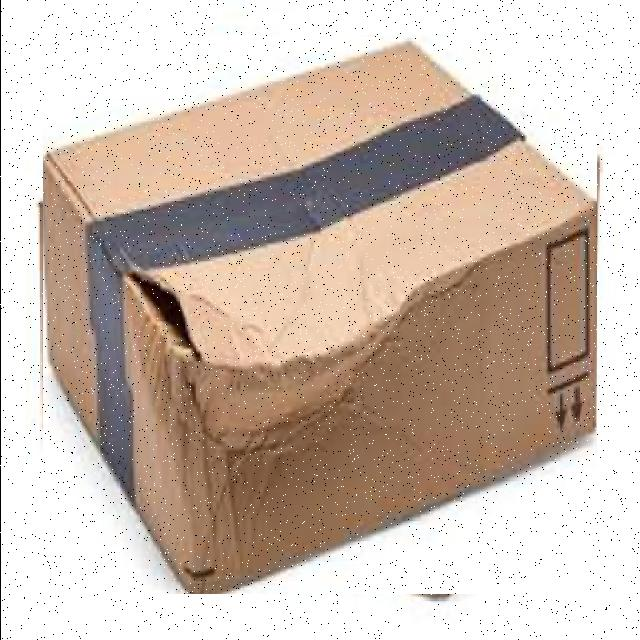defect: (42, 35, 596, 594)
